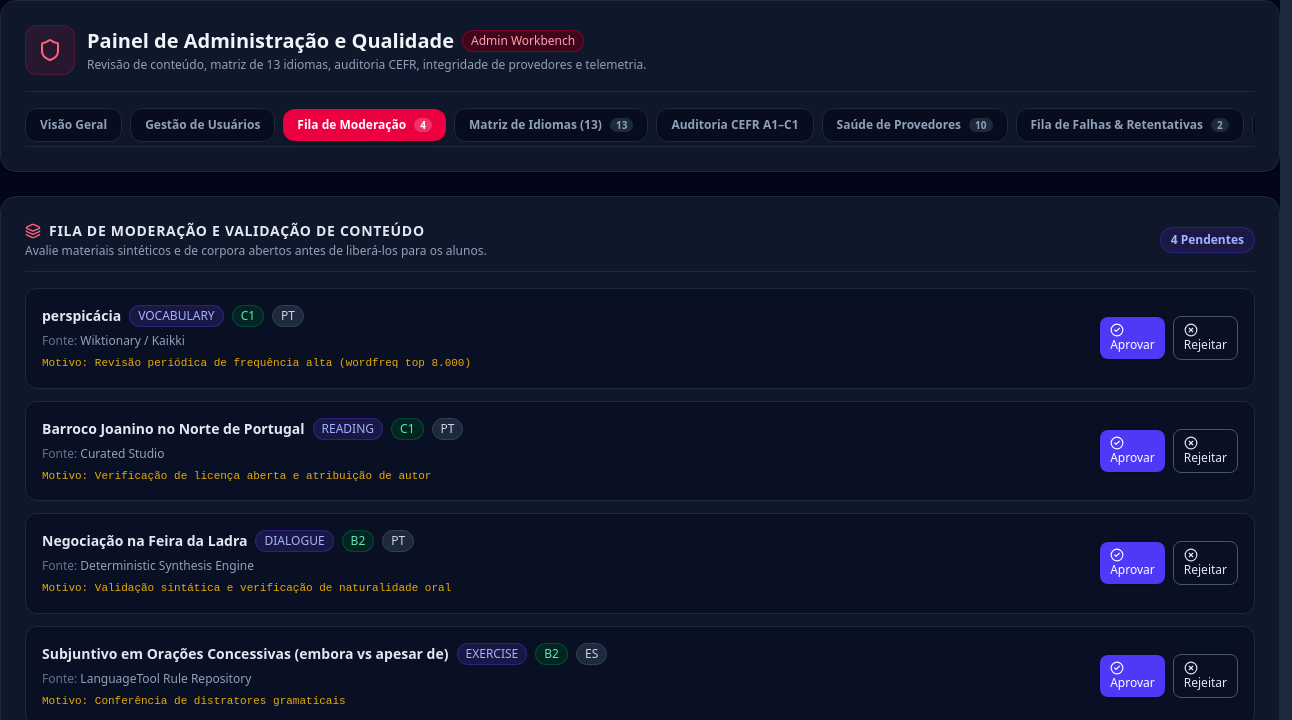
Scenario: Step 8: Advanced Learning Features — Admin Tools & Observability › 10. Admin Workbench › moderates content review items, allowing approve and reject actions
This screenshot has width=1292, height=720.
Check: the heading "Painel de Administração e Qualidade" is shown, box [87,27,454,55]
Check: the heading "Fila de Moderação e Validação de Conteúdo" is shown, box [25,221,487,241]
Click the button "Aprovar" in the row of "VOCABULARY" at coordinates (1132, 338), box [1100,317,1165,359]
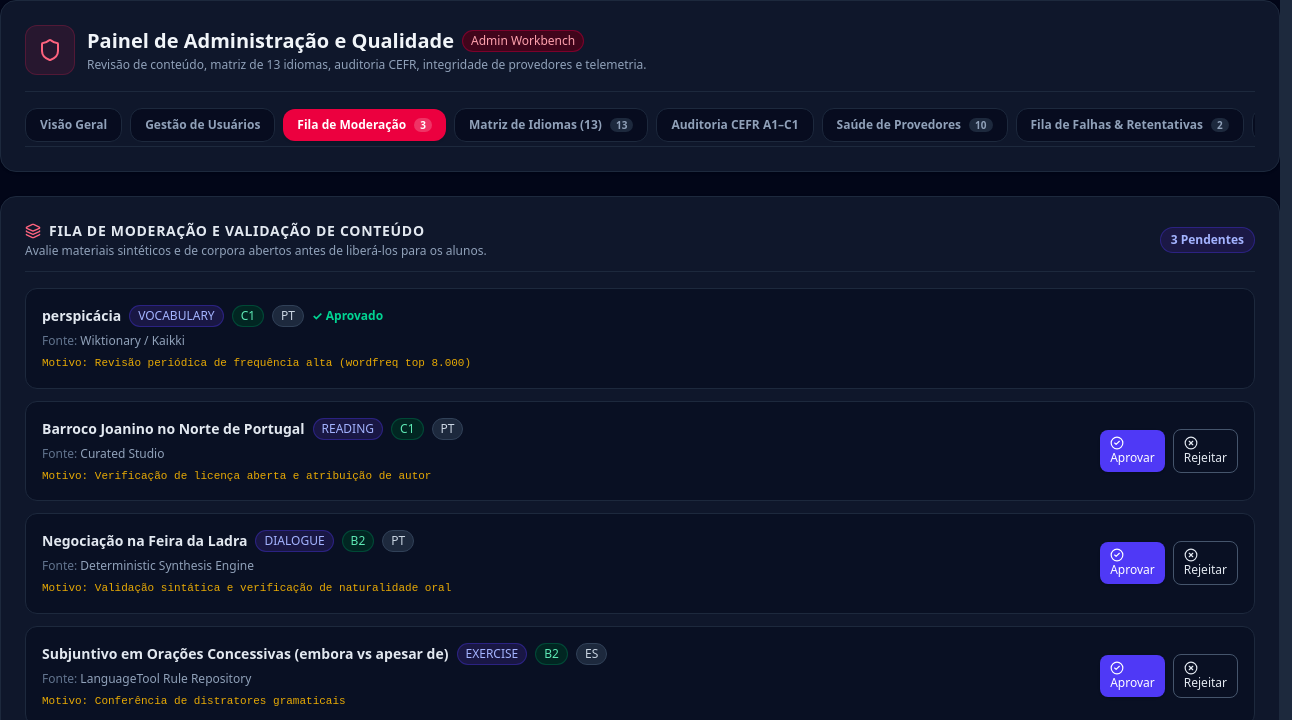
Check: the text "✓ Aprovado" is shown, box [312,308,383,324]
Click the button "Rejeitar" in the row of "READING" at coordinates (1205, 451), box [1173,429,1238,473]
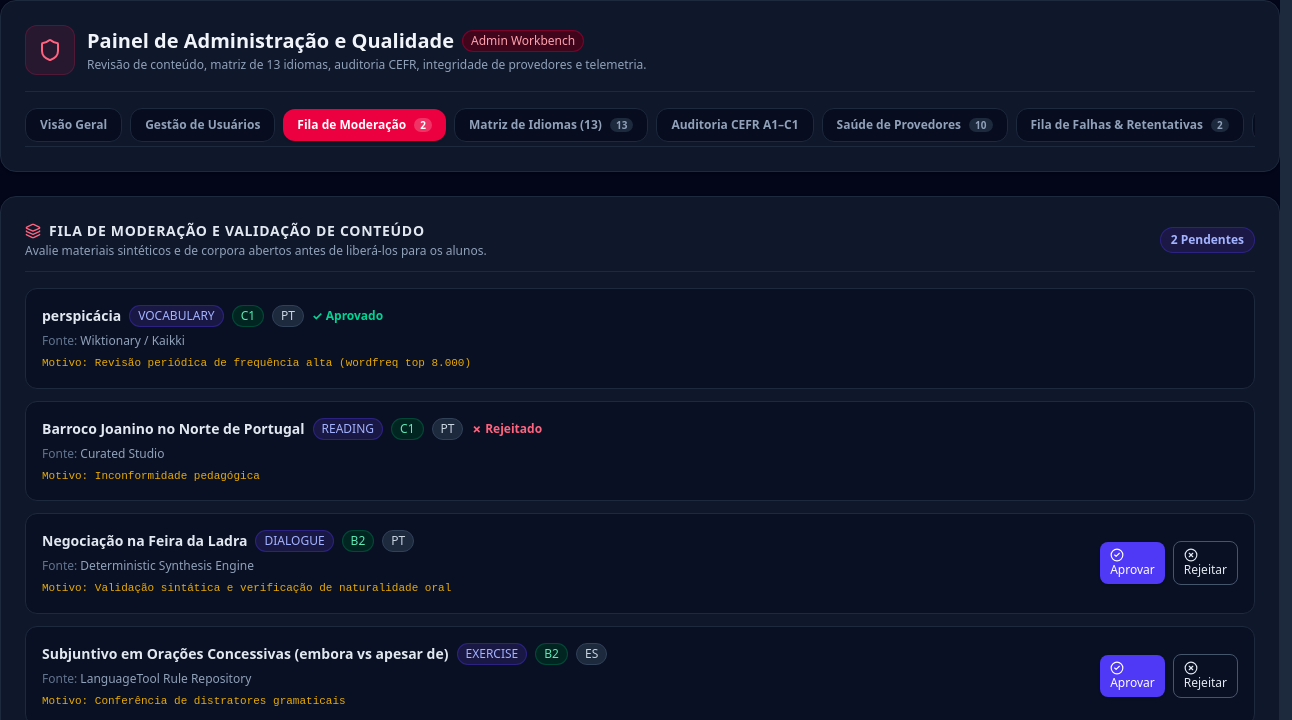
Check: the text "✗ Rejeitado" is shown, box [471,420,542,436]
